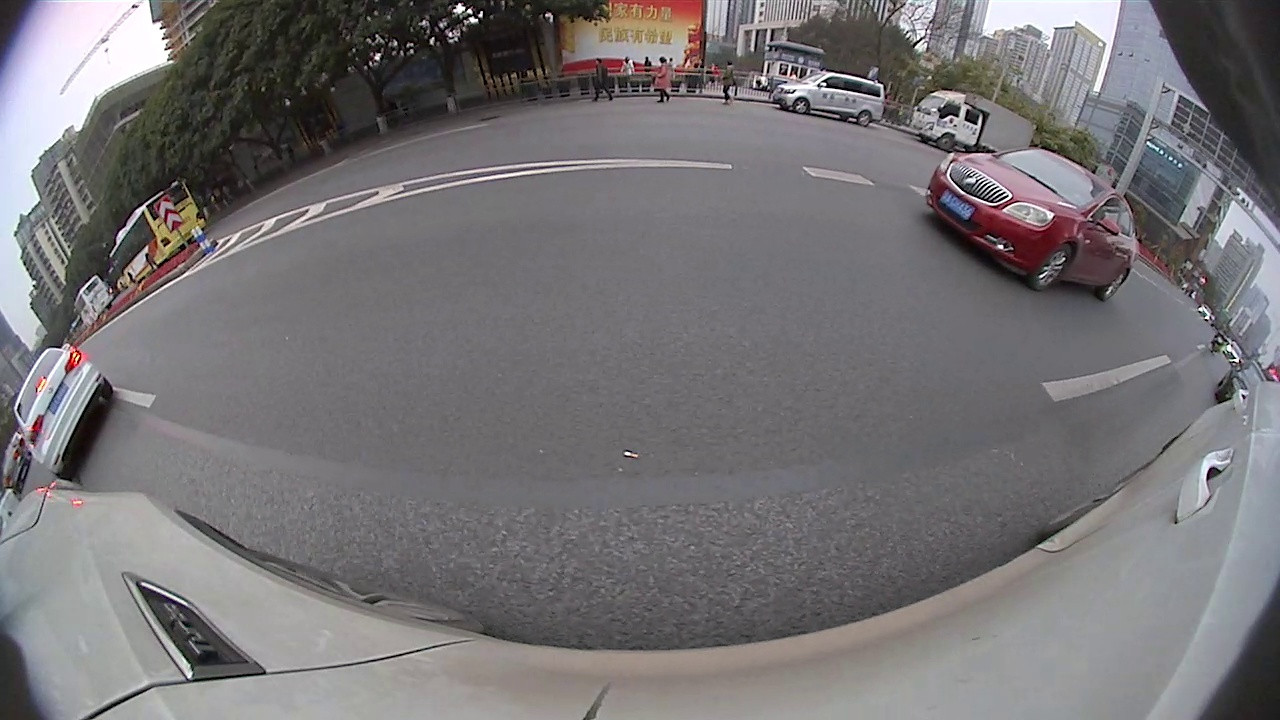bus: (104, 177, 208, 281), (71, 271, 115, 322)
car: (925, 146, 1141, 303), (10, 342, 111, 486), (773, 68, 885, 127), (1215, 357, 1268, 402)
front: (1032, 245, 1071, 291), (938, 133, 955, 151), (794, 98, 809, 114)
person: (595, 57, 605, 103), (659, 57, 669, 103), (724, 60, 732, 103)
rear: (1100, 271, 1127, 302), (857, 110, 872, 127)
truck: (909, 88, 1039, 151)
